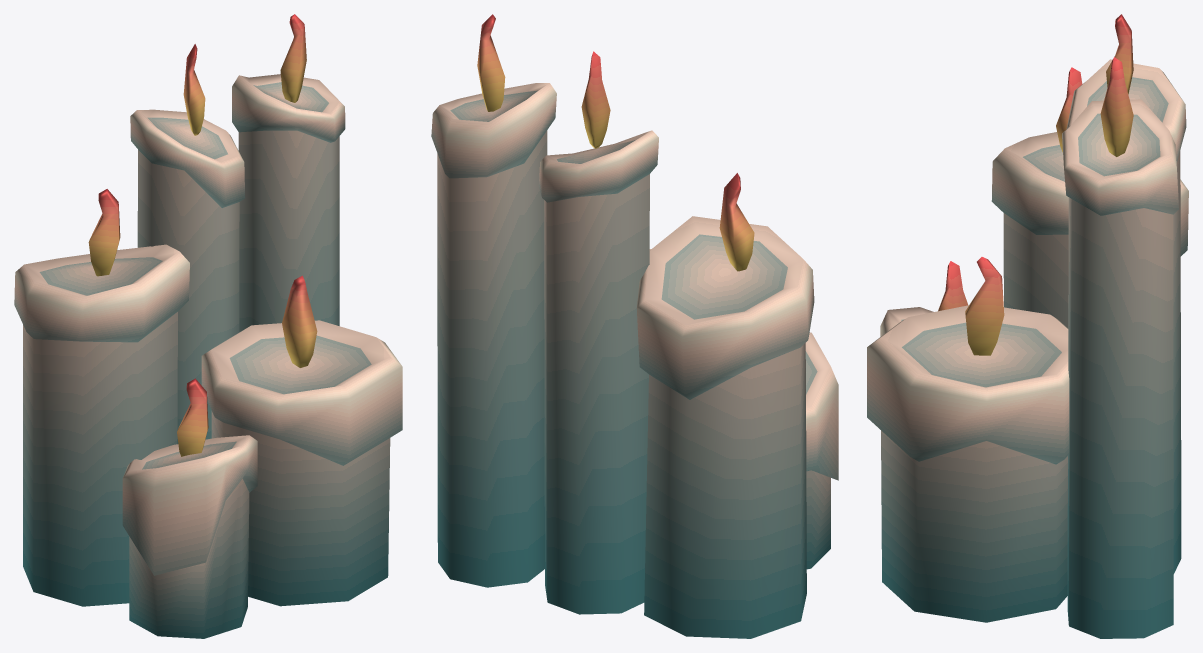
The model's file is White_Candles_Big.fbx.
3 views of the same model, side by side, from view 1: azimuth 30°, elevation 25°; view 2: azimuth 150°, elevation 25°; view 3: azimuth 270°, elevation 25° (orthographic). The views are drawn at different scales.
Parts seen in each view (by area): view 1: pCube9; view 2: pCube9; view 3: pCube9.
Part boxes in pixels (<box>): pCube9: <box>14,14,402,638</box>; pCube9: <box>431,14,838,638</box>; pCube9: <box>867,14,1188,638</box>.
Size of the model in its own units: 1.15 by 1.71 by 0.8893.
